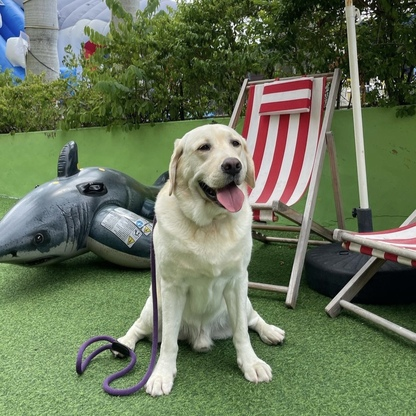labrado: (108, 120, 289, 402)
